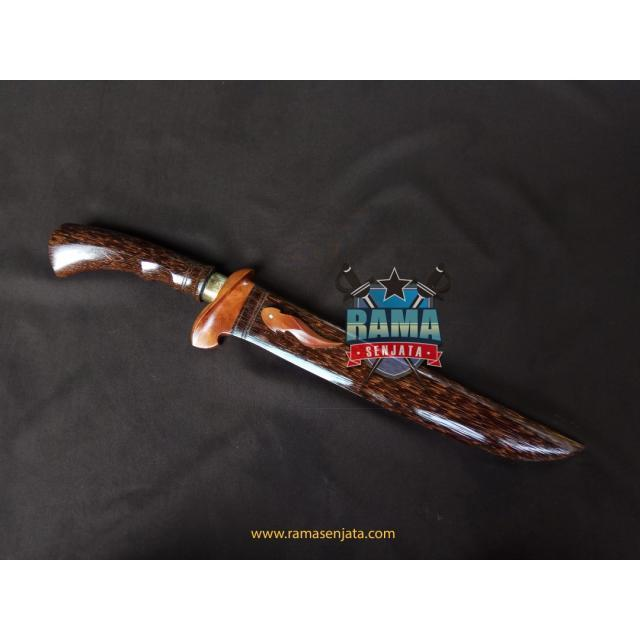Pisau: (40, 211, 593, 477)
